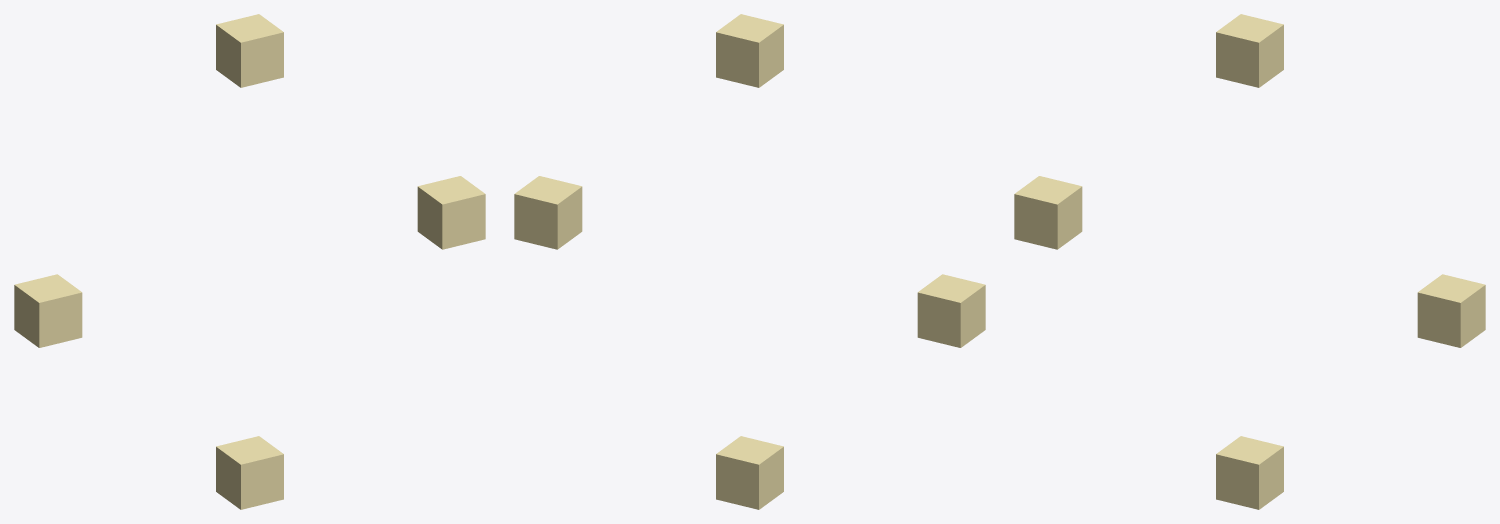
File: light_ring_l2.glb
3 views of the same model, side by side, from view 1: azimuth 30°, elevation 25°; view 2: azimuth 150°, elevation 25°; view 3: azimuth 330°, elevation 25° (orthographic).
Parts seen in each view (by area): view 1: LIGHT_RING; view 2: LIGHT_RING; view 3: LIGHT_RING.
Boxes of the visible parts, x1,y1,x2,y2 form: LIGHT_RING: [14, 14, 485, 509]; LIGHT_RING: [514, 14, 985, 509]; LIGHT_RING: [1014, 14, 1485, 509].
Bounding box in the file's own units: 0.31 × 0.31 × 0.03.
